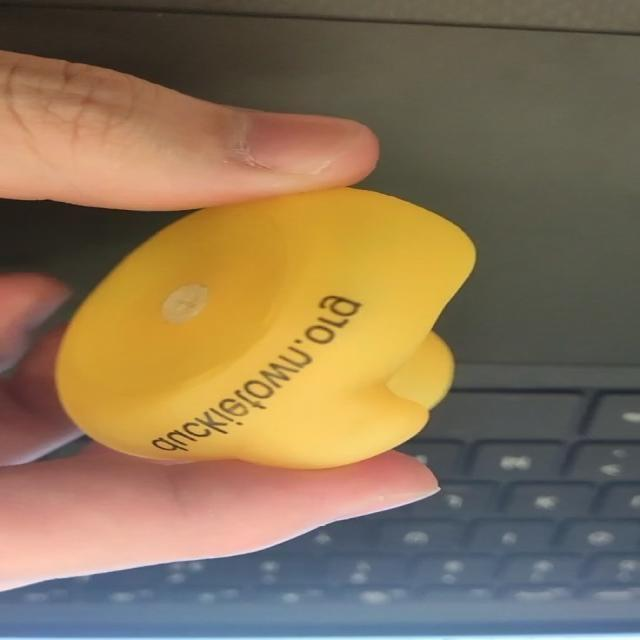rubber-duck: (56, 187, 473, 467)
